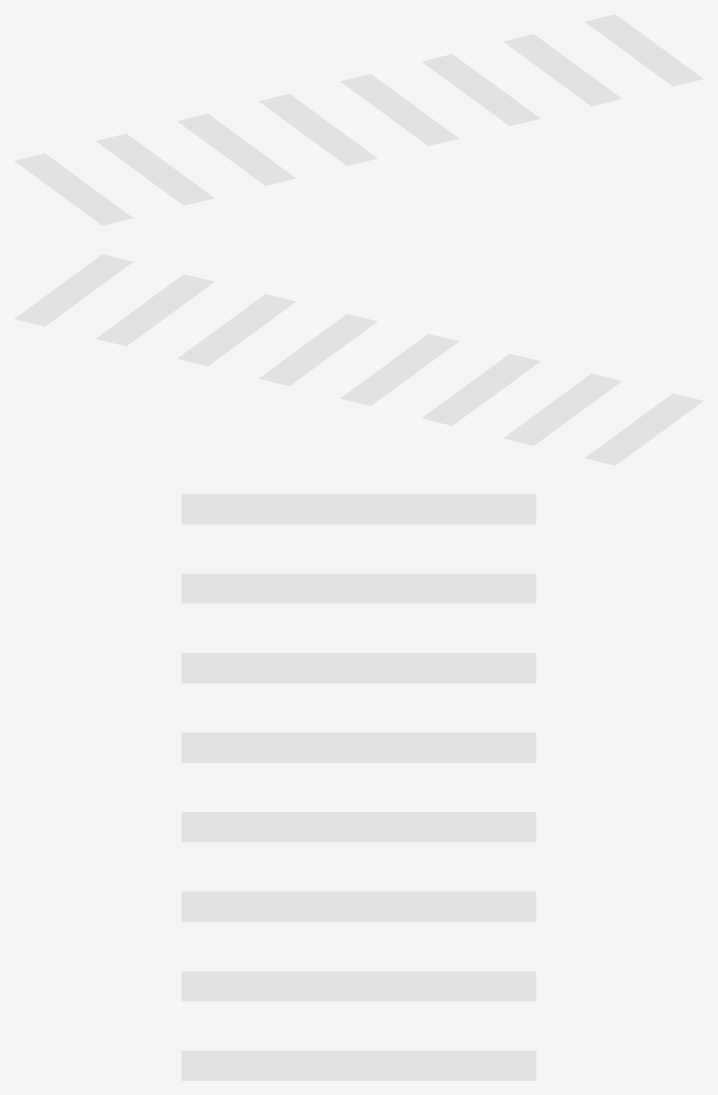
The model's file is banmaxian.FBX.
3 renders of one model, top to bottom at view 1: azimuth 30°, elevation 25°; view 2: azimuth 150°, elevation 25°; view 3: azimuth 270°, elevation 25°, orthographic. The views are drawn at different scales.
Visible parts, largest first — view 1: banmaxian; view 2: banmaxian; view 3: banmaxian.
Part boxes in pixels (box(x1,y1,x2,y2)): banmaxian: box(14, 14, 703, 225); banmaxian: box(14, 254, 703, 465); banmaxian: box(181, 494, 536, 1080).
Size of the model in its own units: 865 by 1.42e-14 by 221.
